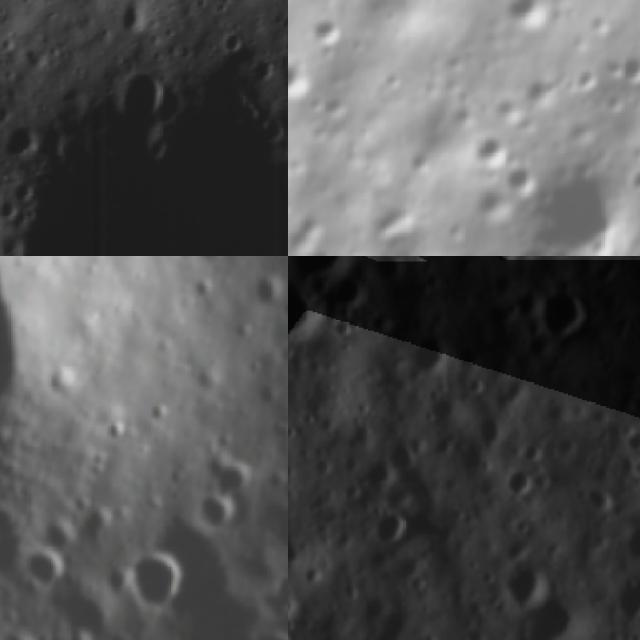crater: (0, 45, 288, 256), (496, 144, 640, 256), (520, 270, 610, 362), (388, 318, 477, 406), (484, 548, 564, 628), (502, 578, 602, 640), (288, 256, 337, 371), (117, 544, 185, 614), (355, 492, 423, 560), (288, 256, 371, 306), (370, 432, 435, 494), (318, 260, 380, 324), (484, 0, 561, 47), (115, 66, 169, 126), (59, 588, 120, 640), (182, 491, 248, 536), (294, 5, 352, 54), (488, 461, 540, 513), (288, 48, 326, 117), (604, 510, 640, 579), (0, 114, 46, 167), (358, 256, 417, 296), (572, 475, 621, 523), (20, 545, 68, 591), (288, 576, 312, 640), (611, 417, 640, 465), (254, 276, 284, 318), (263, 566, 288, 611), (624, 24, 640, 80), (181, 256, 229, 273), (0, 622, 37, 640)
